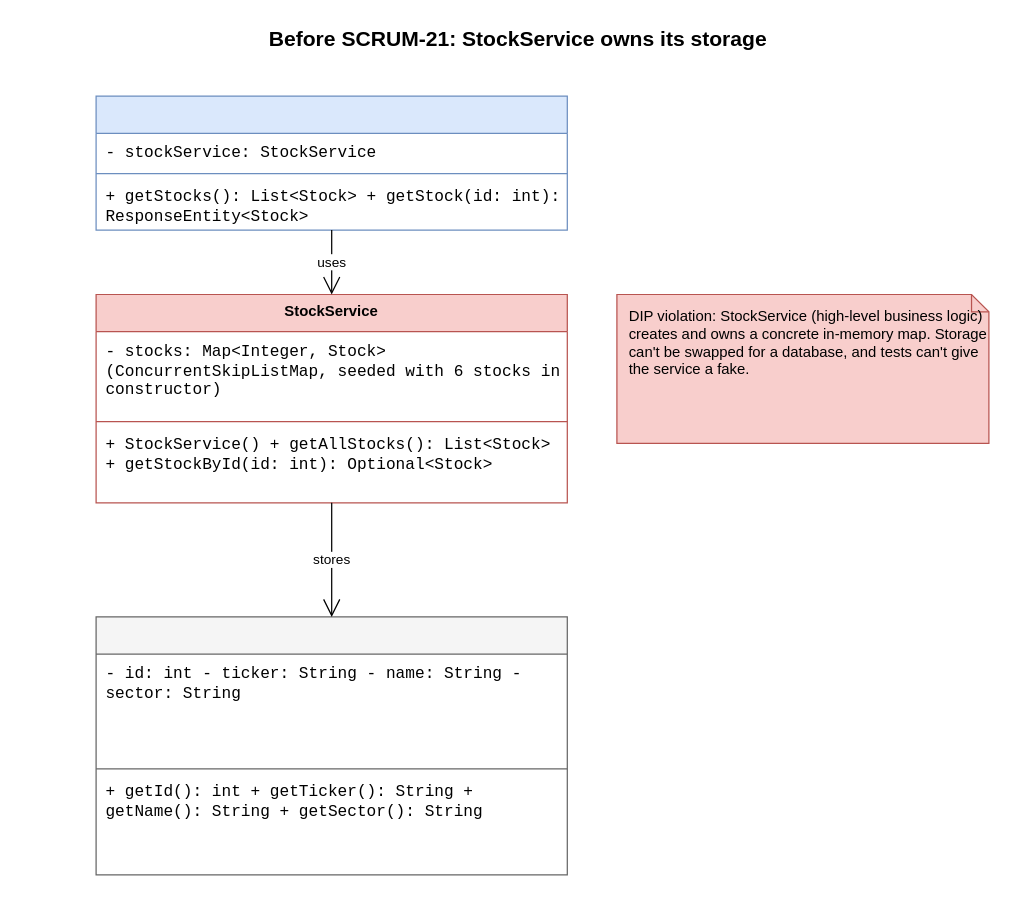
This 1034x897 diagram has some shape labels left out. Here are the shapes that lost their labels. From the top down, the box of each, then its label:
(95, 95, 567, 230): StockController
(95, 616, 567, 875): Stock
